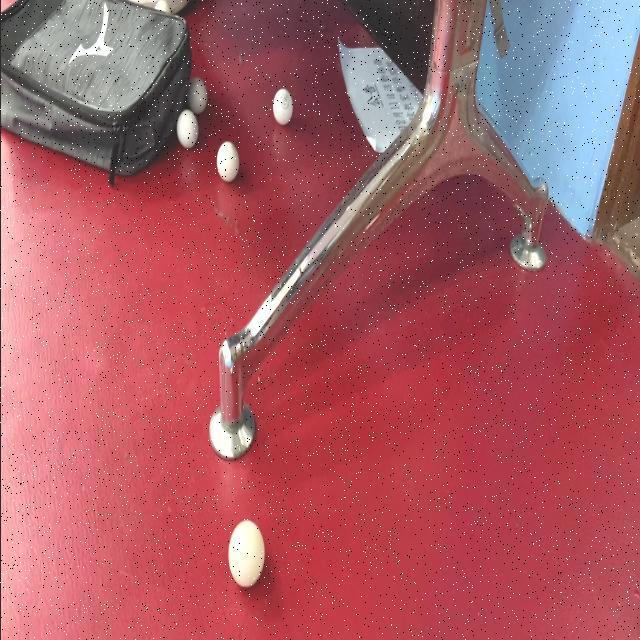ping-pong-ball: (226, 517, 265, 590), (214, 138, 242, 182), (173, 106, 200, 150), (270, 86, 294, 128), (187, 76, 207, 116)
